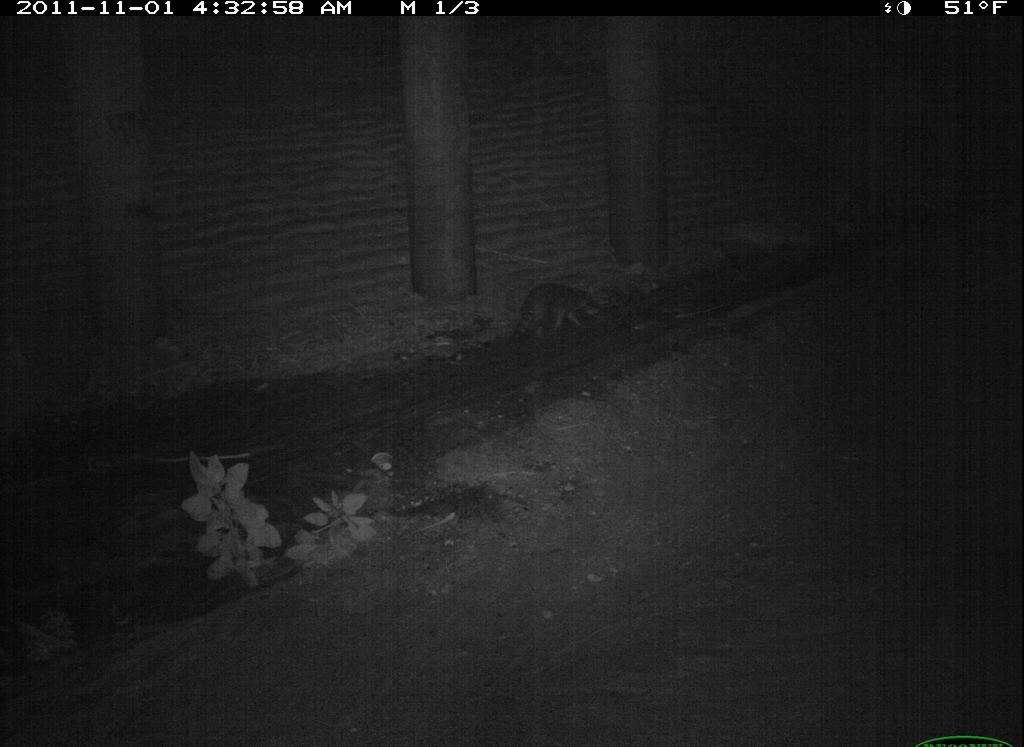raccoon: (1009, 557, 1024, 706)
